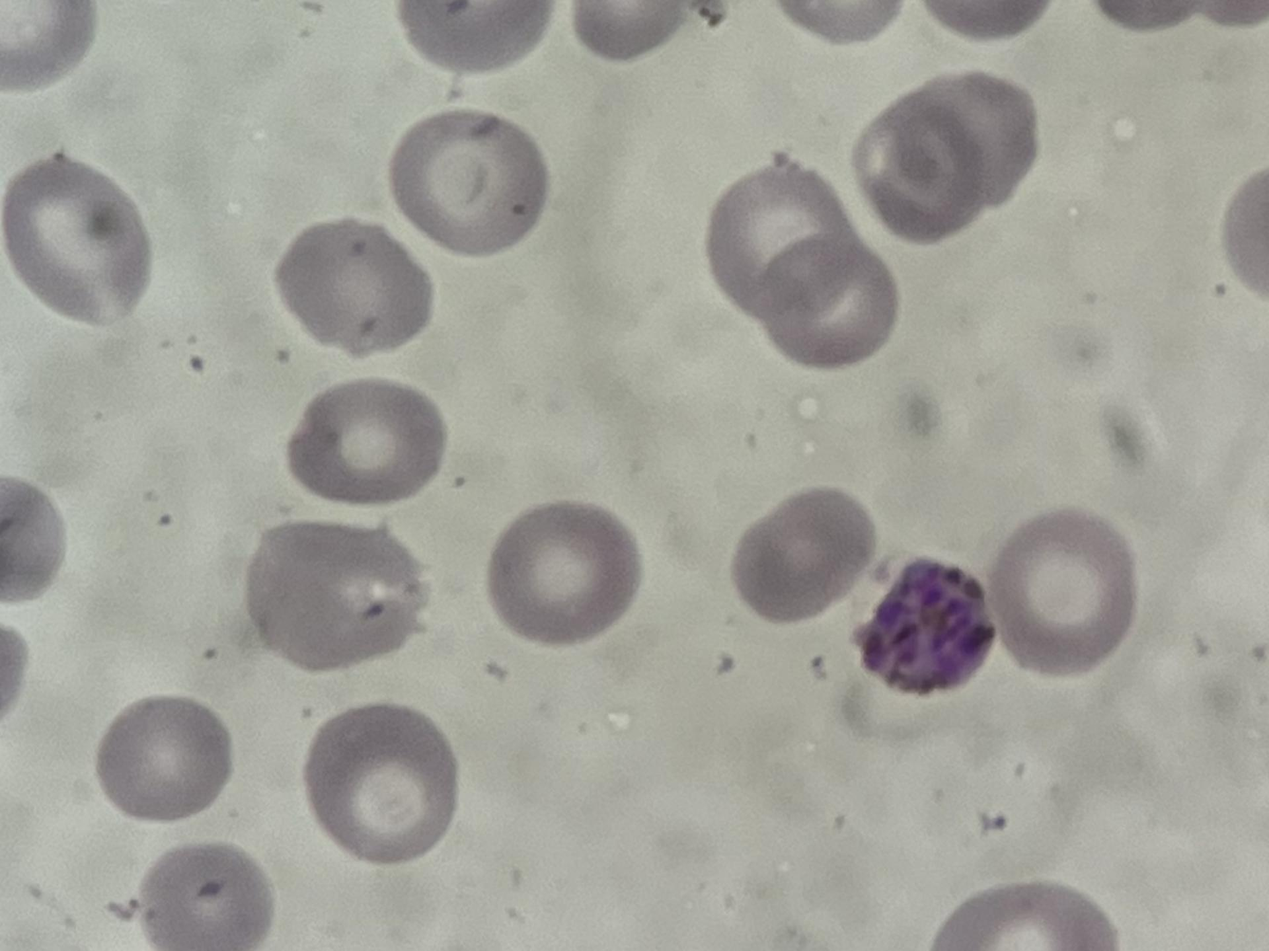Infected: (859, 551, 993, 702)
Uninfected: (249, 521, 430, 669), (304, 697, 460, 866), (0, 155, 150, 329), (383, 106, 543, 257), (998, 507, 1137, 678), (485, 501, 643, 647), (703, 164, 847, 323), (273, 219, 435, 349), (284, 380, 444, 505), (736, 488, 878, 625), (855, 89, 977, 239), (756, 234, 890, 365), (93, 695, 235, 818), (910, 80, 1038, 207), (137, 847, 273, 951)
